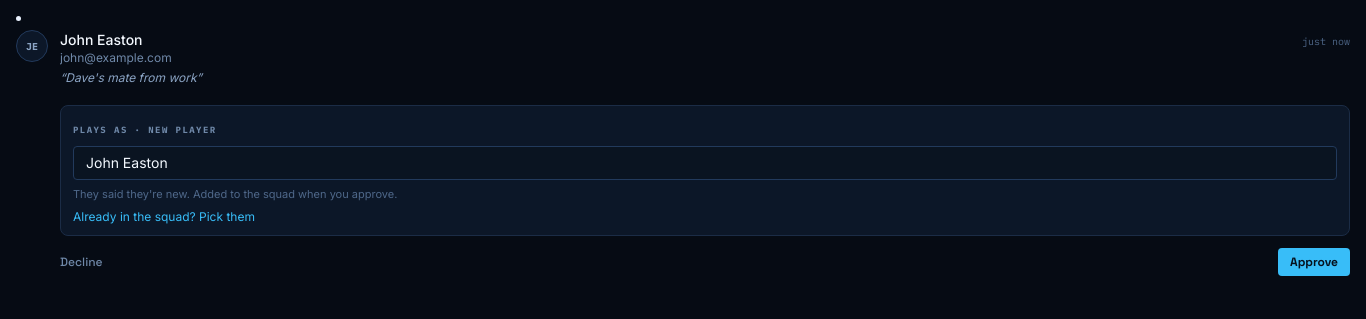
it: ReviewCard › warns about a name clash and offers to link instead
The width and height of the screenshot is (1366, 319).
Replace the text in the field labelled "Plays as · new player" with "john e" at (705, 163), box [73, 146, 1337, 180]
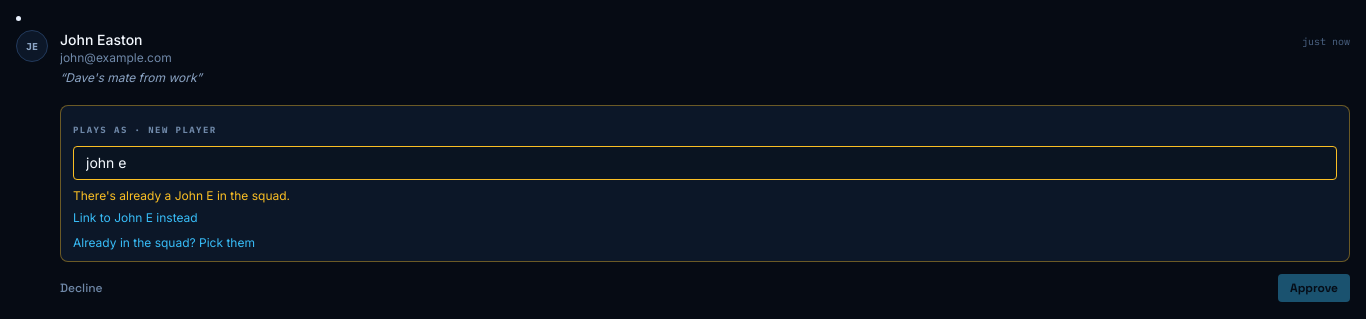
Check: the text "There's already a John E in the squad." is shown, box [73, 188, 290, 203]
Check: the button "Approve" is disabled, box [1278, 274, 1350, 302]
Click the button "Link to John E instead" at (135, 218), box [73, 210, 198, 226]
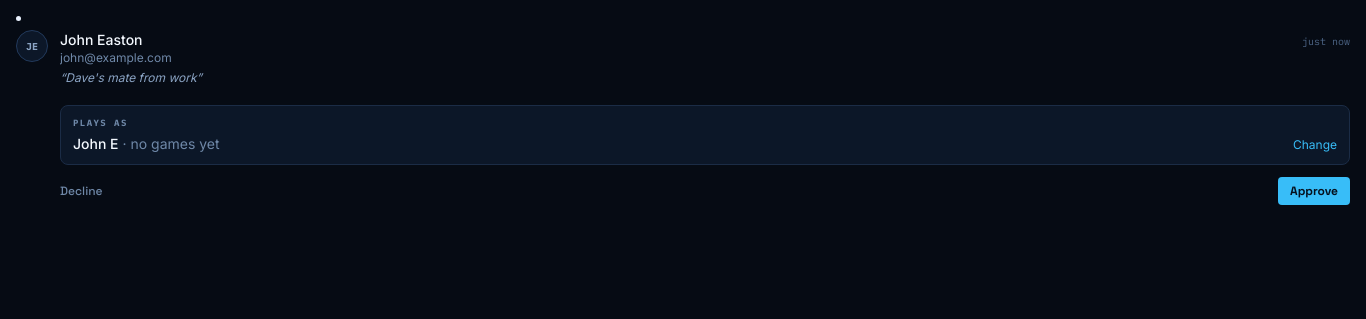
Check: the text "John E" is shown, box [73, 134, 118, 152]
Check: the button "Approve" is enabled, box [1278, 176, 1350, 204]
